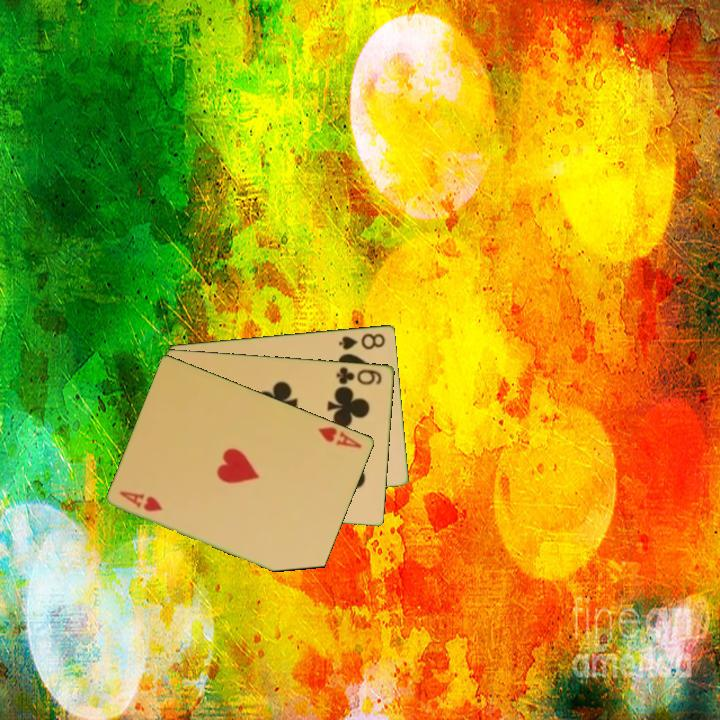6c: (333, 363, 385, 387)
8s: (336, 329, 388, 352)
Ah: (315, 423, 365, 451), (116, 487, 166, 515)
